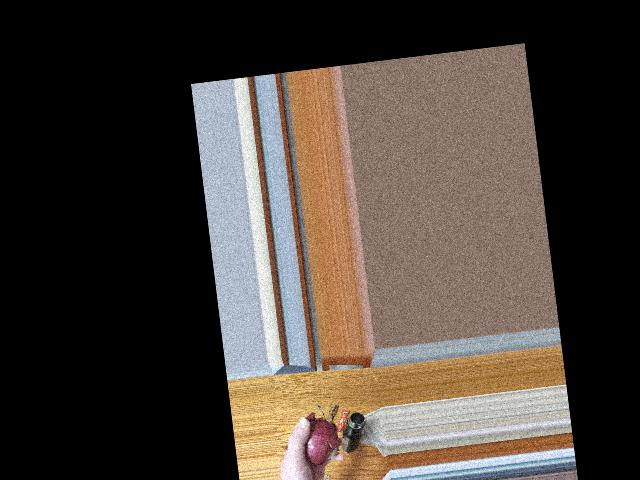onion: (296, 421, 340, 467)
